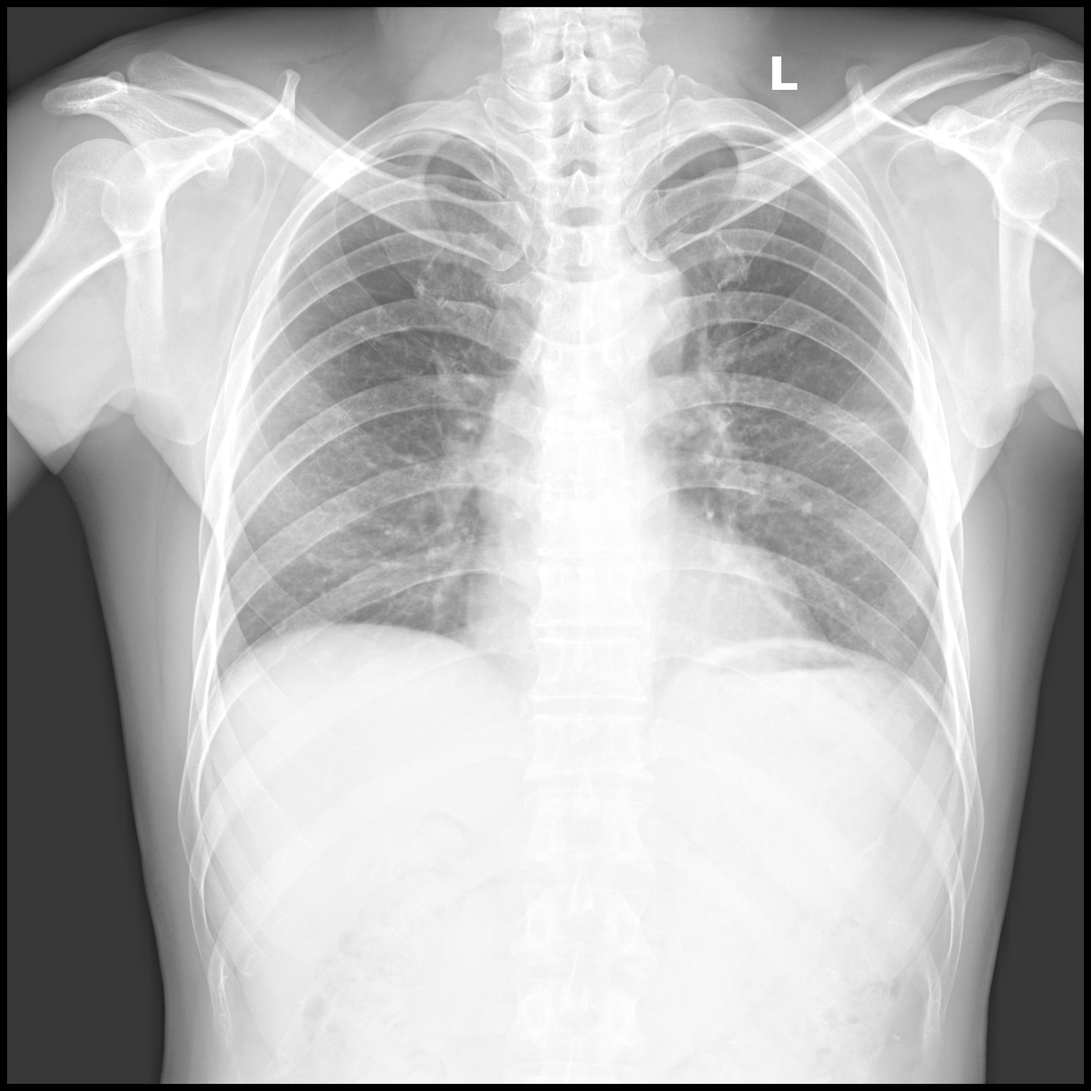Pulmonary fibrosis: (791, 400, 911, 444)
